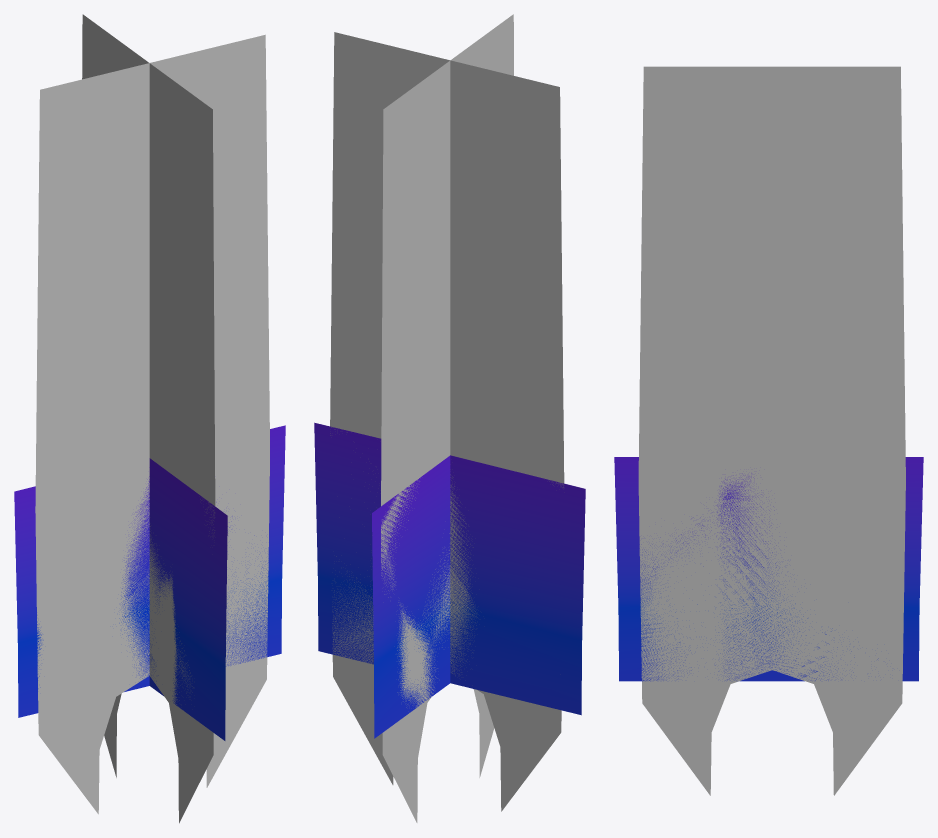
The model's file is EffectMesh0150.FBX.
The picture shows the model from 3 angles, left to right: view 1: azimuth 30°, elevation 25°; view 2: azimuth 150°, elevation 25°; view 3: azimuth 270°, elevation 25°; orthographic projection.
Parts seen in each view (by area): view 1: SM_Candle_cake; view 2: SM_Candle_cake; view 3: SM_Candle_cake.
Part boxes in pixels (x1,y1,x2,y2): SM_Candle_cake: (14,14,285,823); SM_Candle_cake: (314,14,585,822); SM_Candle_cake: (614,66,923,795).
Bounding box in the file's own units: 2.1 × 5.47 × 2.1.
